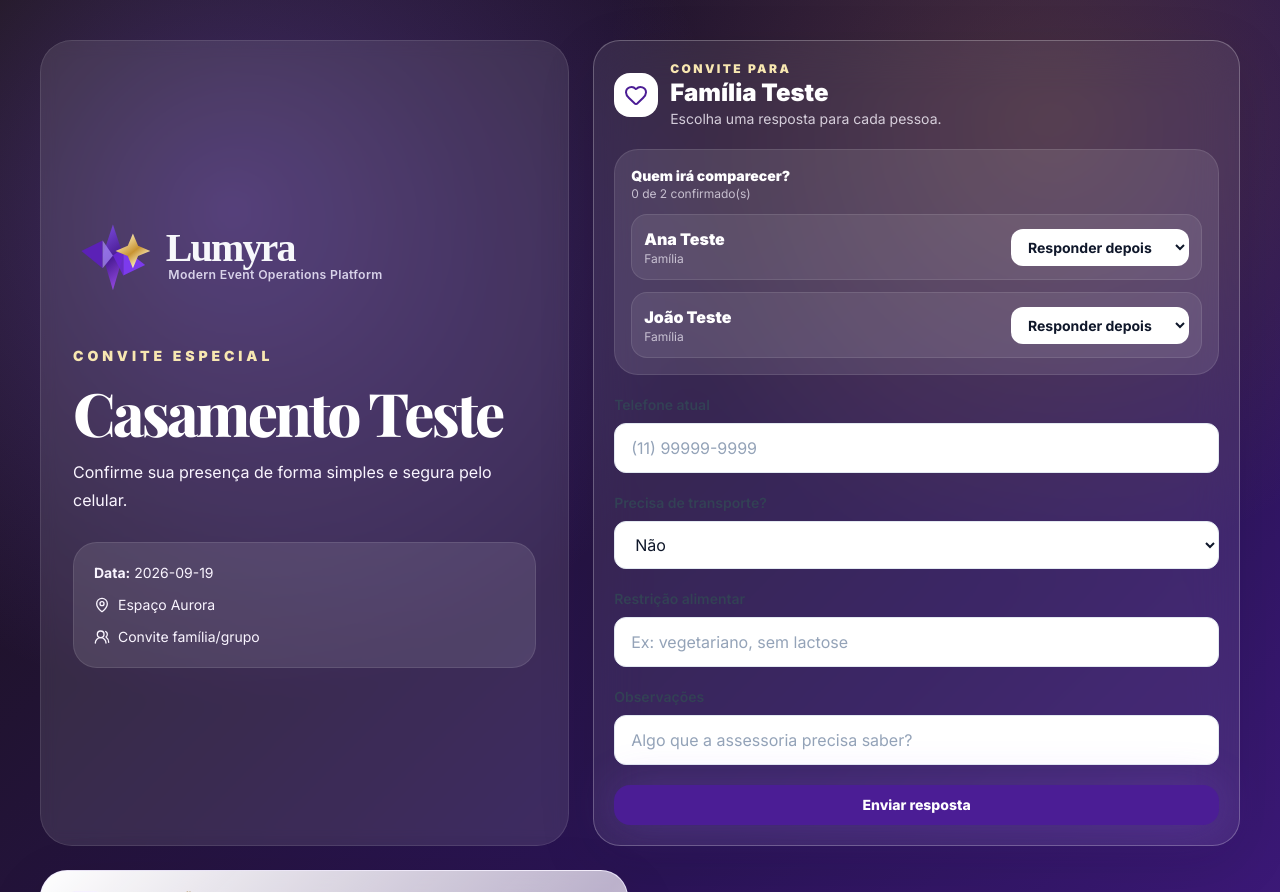
it: GuestPortal › loads invitation data and persists member responses
Expected: the heading "Casamento Teste" is shown, [73,382,536,442]
Expected: the text "Ana Teste" is shown, [644,227,725,251]
Select "Confirma presença" in the dropdown named "Presença de Ana Teste" at [1100, 247], box [1011,228,1189,266]
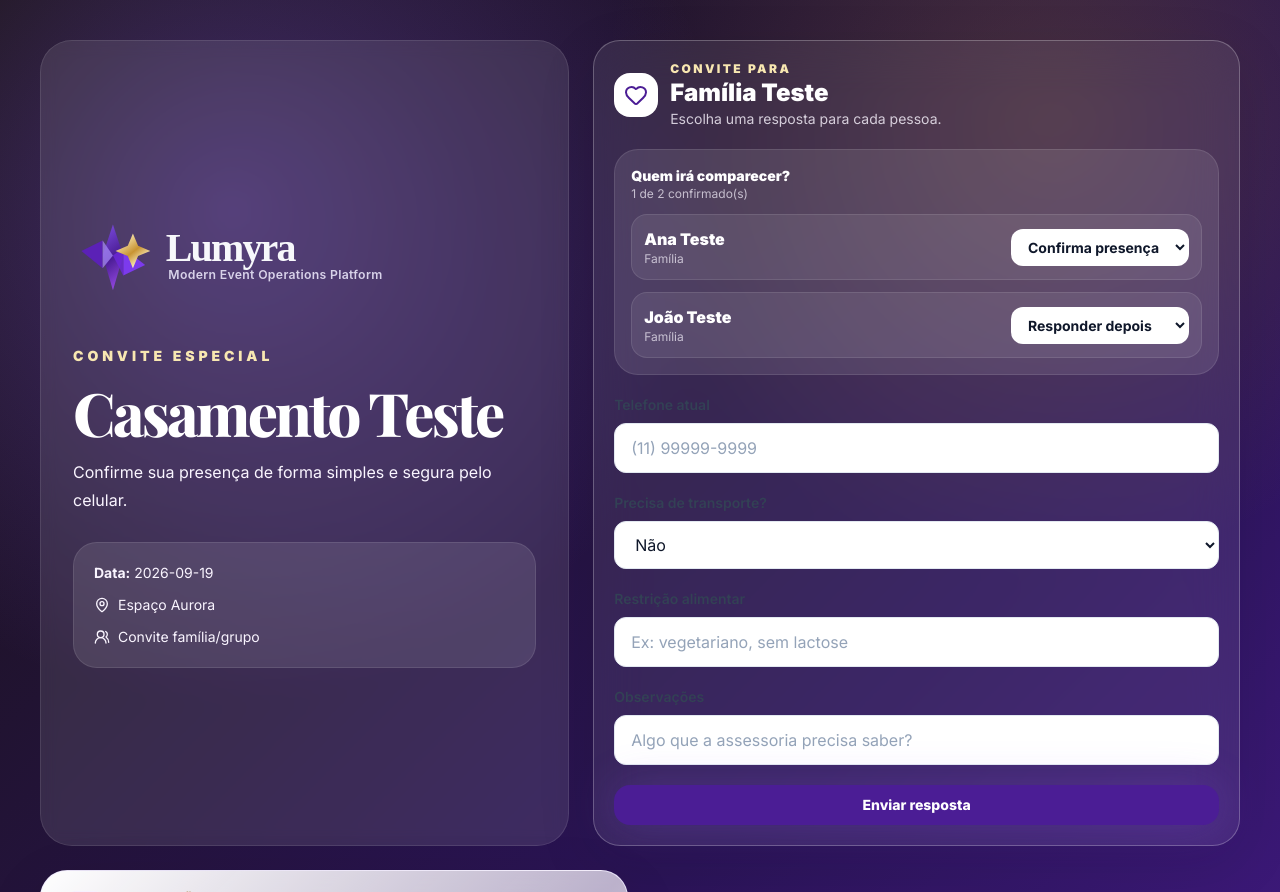
Click the button "Enviar resposta".
click(917, 805)  # box [614,785,1219,825]
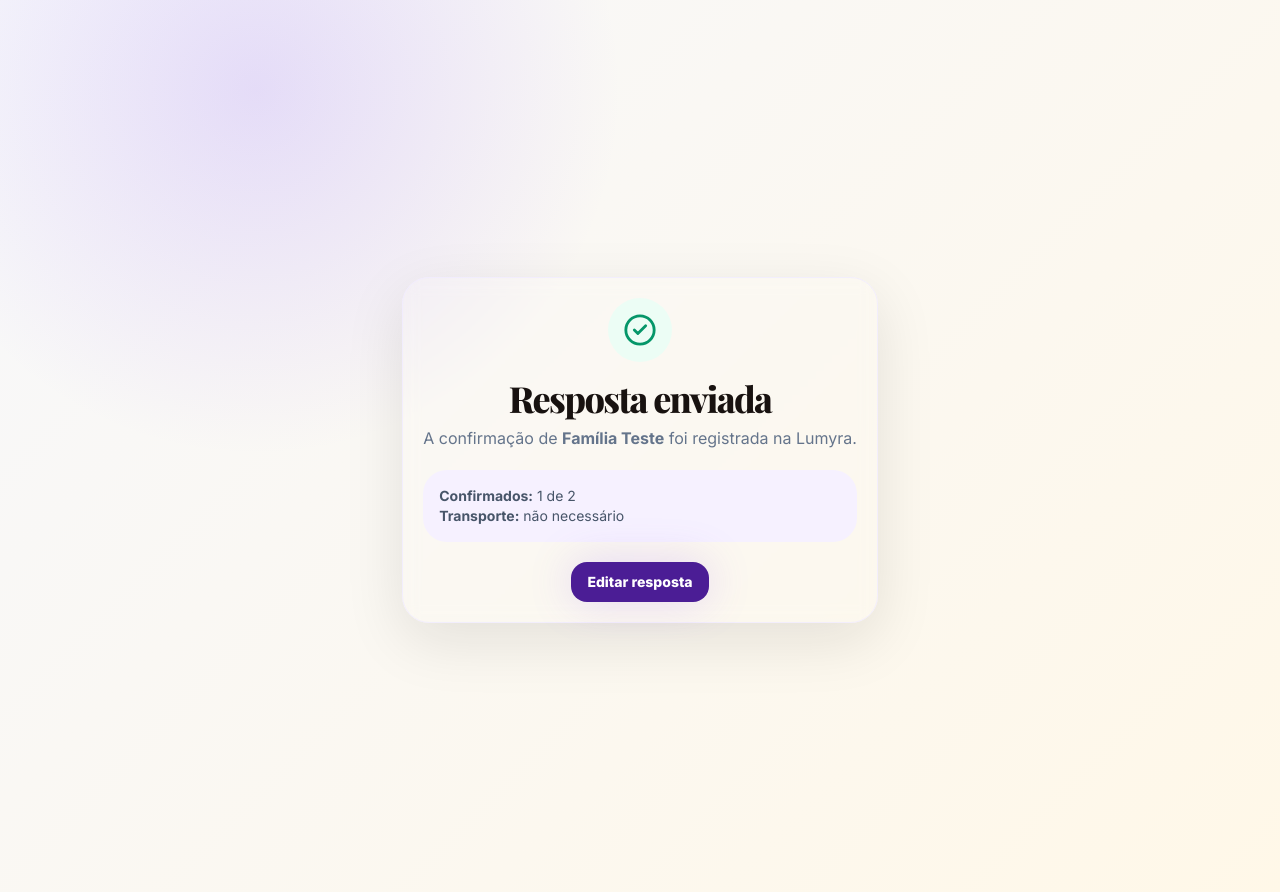
Now the heading "Resposta enviada" is shown, box [509,374,771,422]
